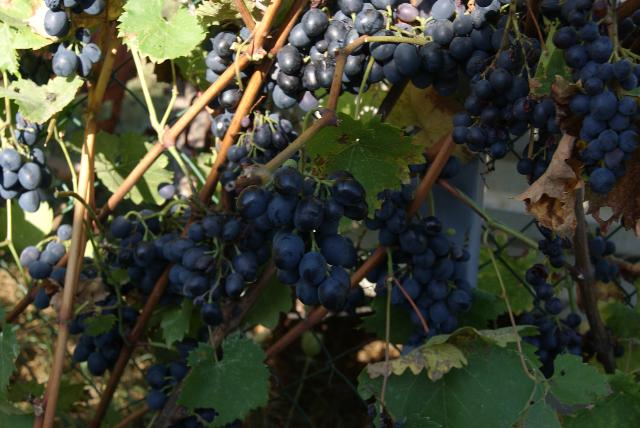grapes: (552, 0, 640, 195), (270, 0, 426, 109), (452, 34, 560, 181), (266, 160, 368, 310), (340, 0, 494, 95), (391, 216, 475, 346), (156, 215, 270, 304)
